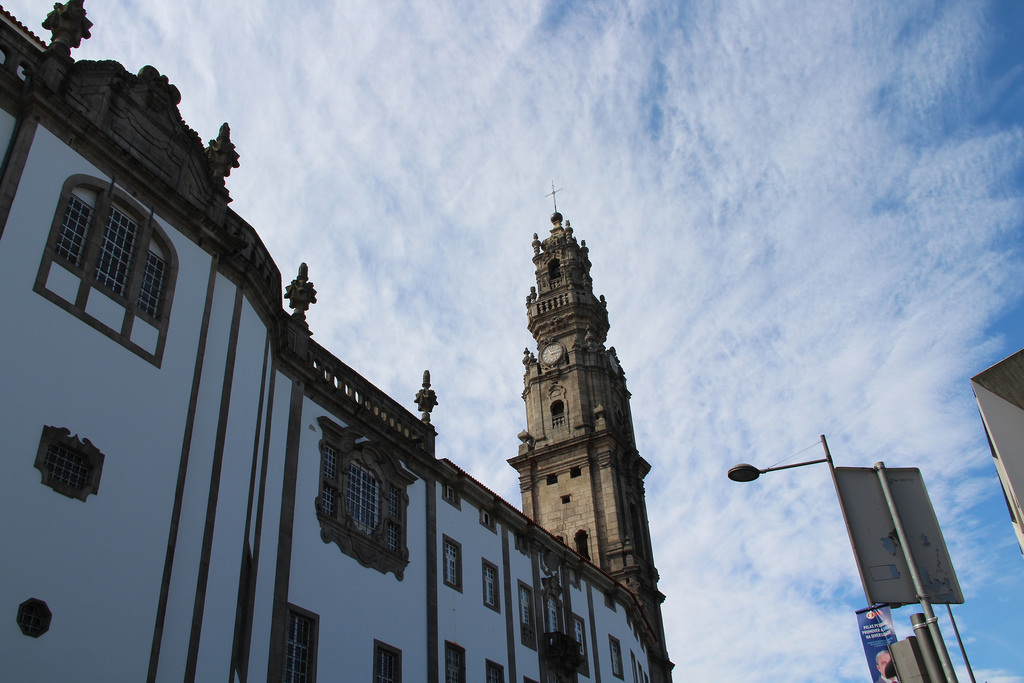clerigos: (506, 182, 668, 652)
